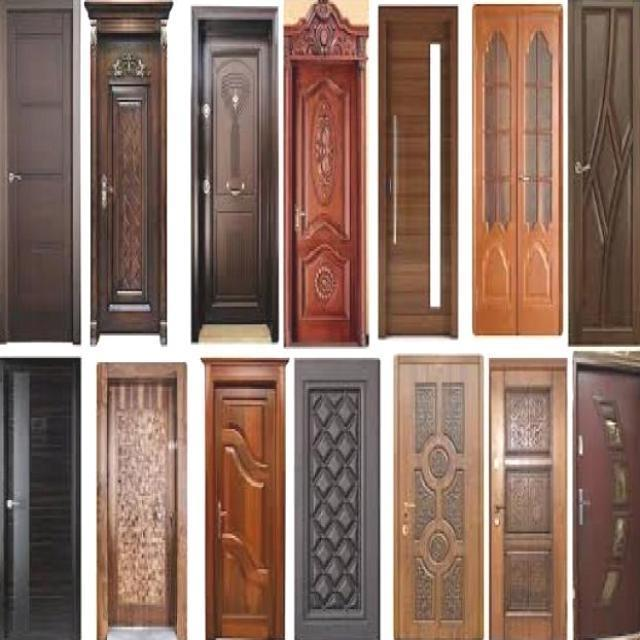door: (1, 2, 85, 348), (569, 0, 640, 343), (382, 17, 453, 336), (214, 381, 276, 637)
